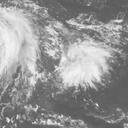cyclone: (0, 7, 41, 100), (57, 37, 114, 91)
